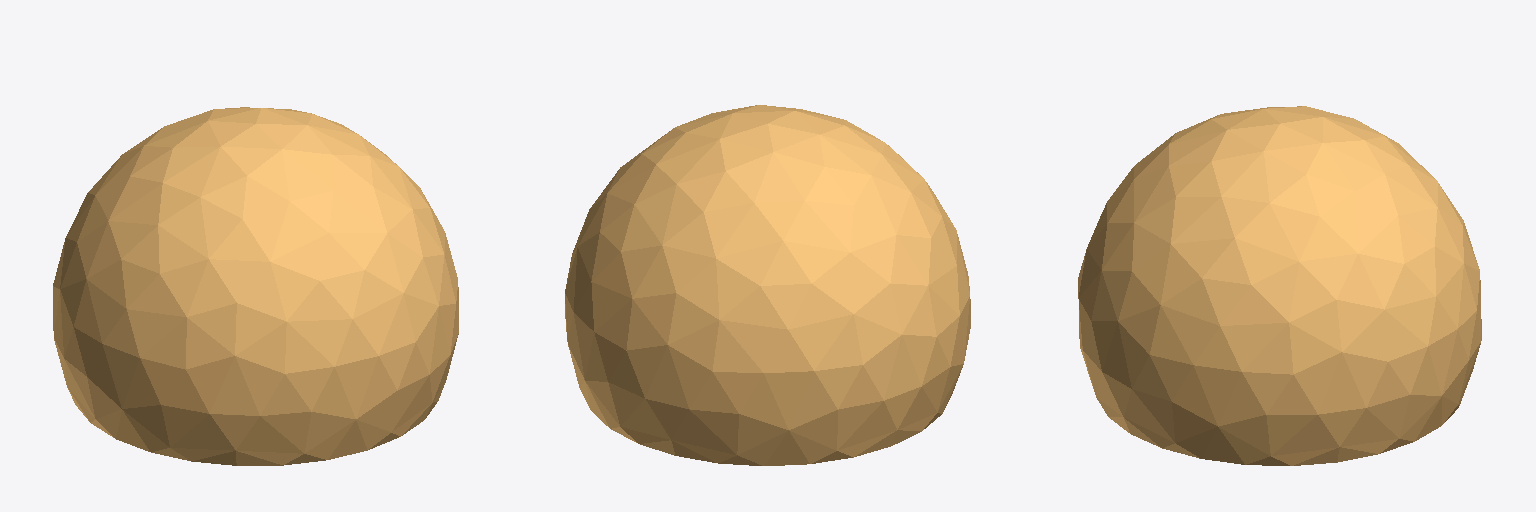
File: demo.obj
3 views of the same model, side by side, from view 1: azimuth 30°, elevation 25°; view 2: azimuth 150°, elevation 25°; view 3: azimuth 270°, elevation 25° (orthographic).
Parts seen in each view (by area): view 1: Mesh1 Radome_1_1 Radome_2_1 Model; view 2: Mesh1 Radome_1_1 Radome_2_1 Model; view 3: Mesh1 Radome_1_1 Radome_2_1 Model.
Boxes of the visible parts, box(x1,y1,x2,y2) form: Mesh1 Radome_1_1 Radome_2_1 Model: box(53, 107, 458, 465); Mesh1 Radome_1_1 Radome_2_1 Model: box(565, 105, 970, 465); Mesh1 Radome_1_1 Radome_2_1 Model: box(1078, 106, 1481, 465).
Bounding box in the file's own units: 12.09 × 8.71 × 12.02.